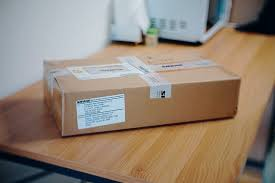undamaged: (43, 51, 242, 137)
